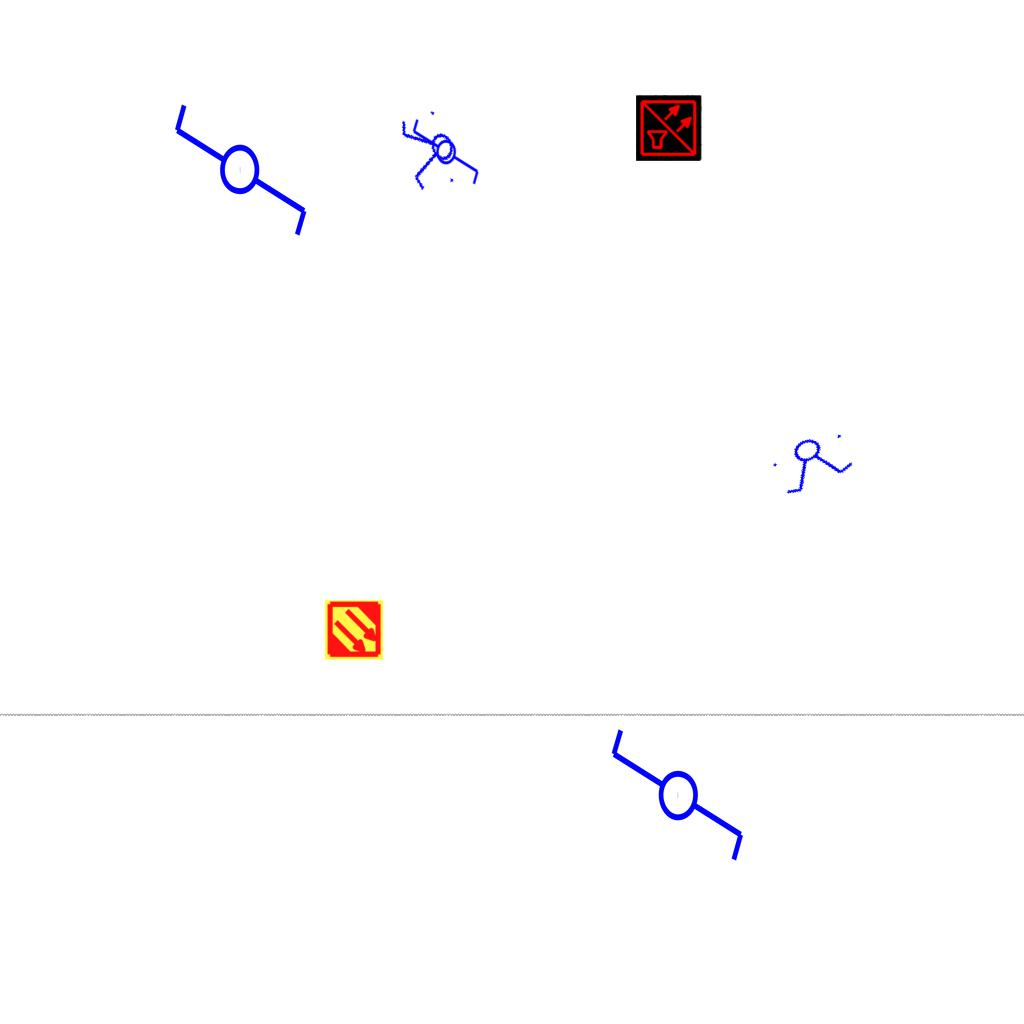ASR_Ansaugrauchmelder: (323, 599, 385, 661)
OKW_Multisensormelder_(Kombination_optischer_Rauch-Kahlenmonoxid_Waerme-Melder): (636, 95, 702, 161)
Serienschalter: (764, 422, 862, 502), (395, 104, 465, 198)
Wechselschalter: (170, 83, 314, 240), (604, 725, 748, 882), (409, 117, 481, 195)
